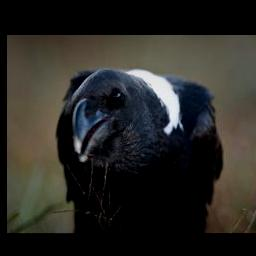Crow: (55, 66, 221, 228)
